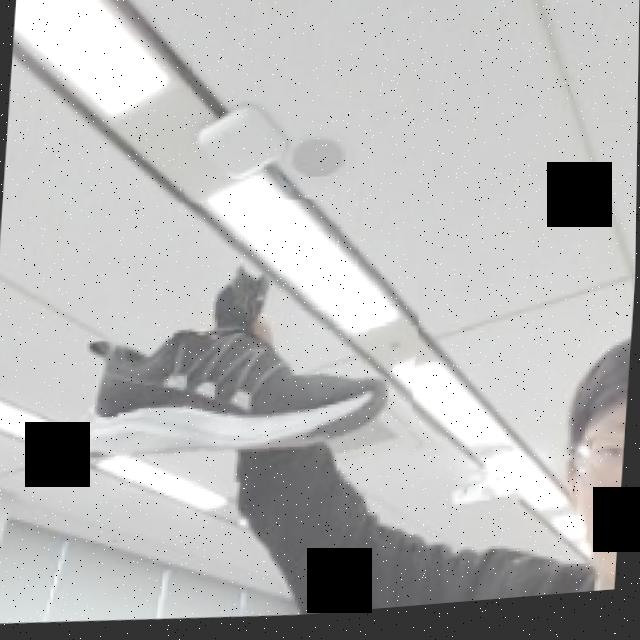shoe: (115, 188, 430, 507)
